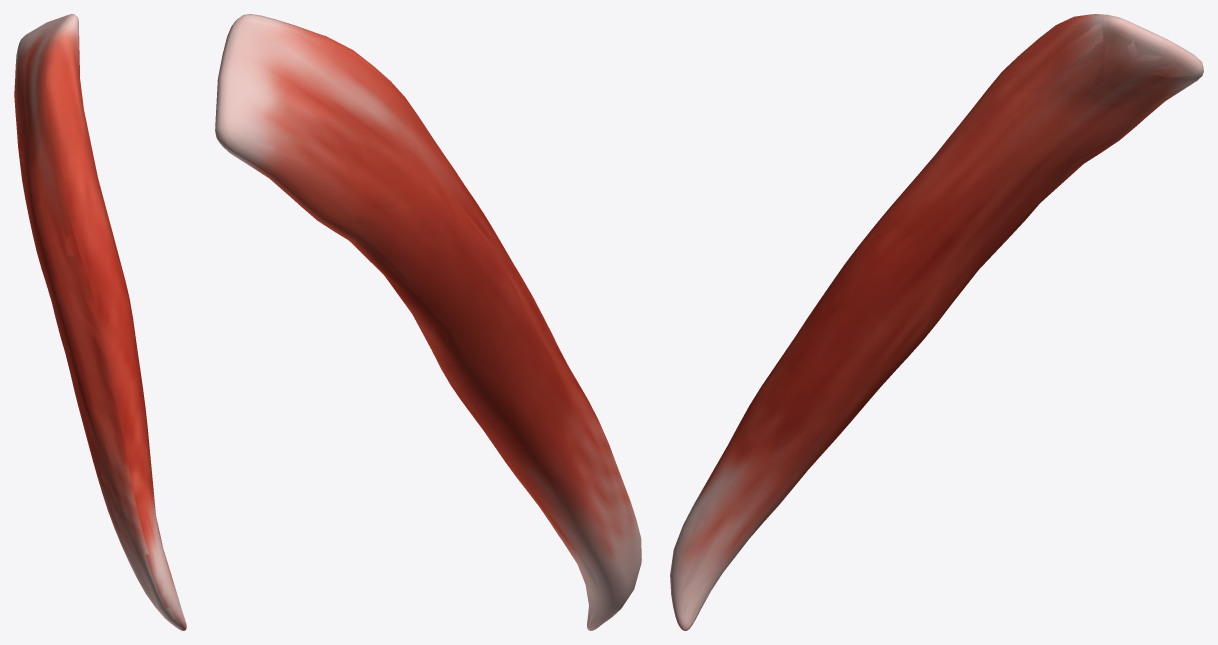
Rendered from R Infaspinatus.fbx.
3 views of the same model, side by side, from view 1: azimuth 30°, elevation 25°; view 2: azimuth 150°, elevation 25°; view 3: azimuth 270°, elevation 25° (orthographic). The views are drawn at different scales.
Parts seen in each view (by area): view 1: R Infaspinatus, R Infaspinatus low; view 2: R Infaspinatus, R Infaspinatus low; view 3: R Infaspinatus, R Infaspinatus low.
Part boxes in pixels (x1,y1,x2,y2): R Infaspinatus: [14, 14, 186, 630]; R Infaspinatus low: [14, 14, 167, 592]; R Infaspinatus: [215, 14, 641, 630]; R Infaspinatus low: [215, 16, 641, 626]; R Infaspinatus: [670, 14, 1203, 630]; R Infaspinatus low: [681, 14, 1199, 623].
Bounding box in the file's own units: 8.38 × 39.72 × 29.72.
